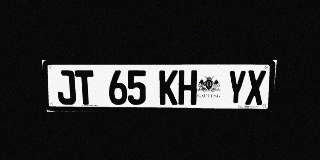5: (127, 70, 146, 105)
6: (108, 70, 127, 105)
H: (178, 70, 197, 105)
J: (55, 70, 76, 105)
K: (159, 70, 178, 105)
T: (75, 70, 95, 105)
X: (245, 70, 266, 105)
Y: (226, 70, 247, 105)
